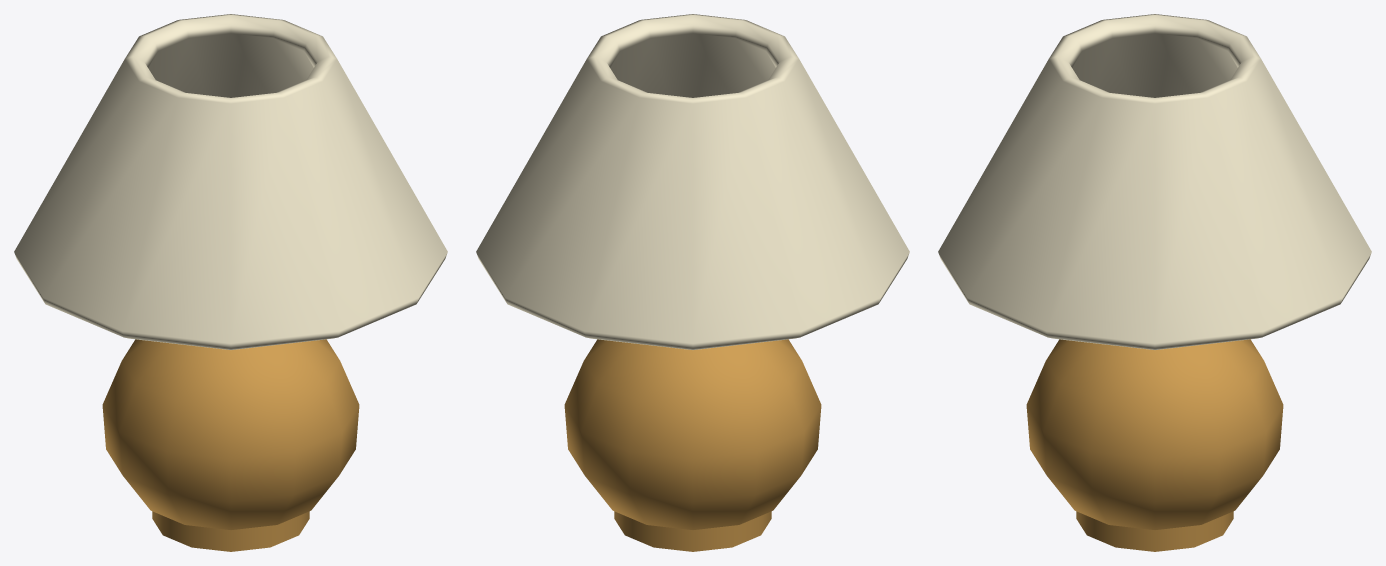
File: lamp_001.fbx
3 renders of one model, left to right at view 1: azimuth 30°, elevation 25°; view 2: azimuth 150°, elevation 25°; view 3: azimuth 270°, elevation 25°, orthographic.
Parts seen in each view (by area): view 1: lamp_001; view 2: lamp_001; view 3: lamp_001.
Part boxes in pixels (<box>): lamp_001: <box>14,14,447,551</box>; lamp_001: <box>476,14,909,551</box>; lamp_001: <box>938,14,1371,551</box>.
Bounding box in the file's own units: 64.39 × 64.39 × 75.67.
